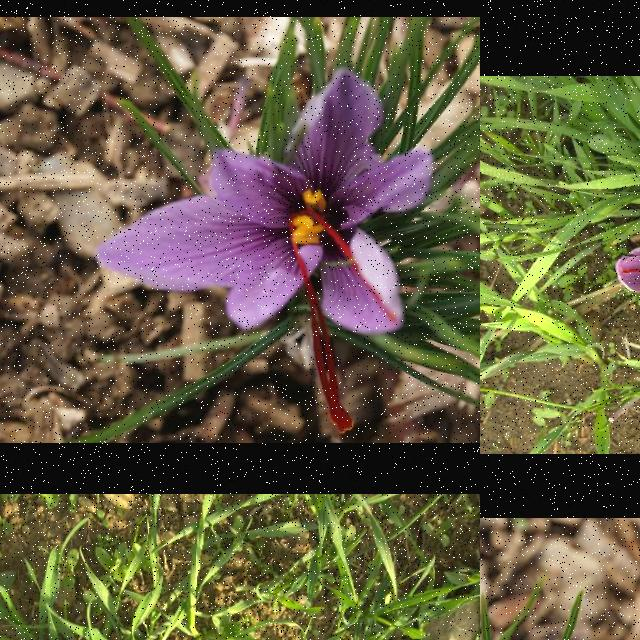flower: (96, 67, 434, 436), (615, 244, 640, 357)
